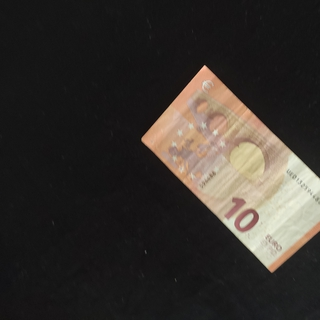10EUROBack: (140, 64, 320, 274)
